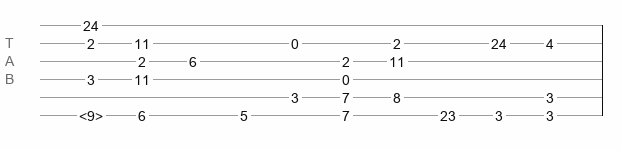0: (291, 36, 299, 46), (342, 72, 350, 82)
11: (134, 72, 150, 82), (134, 36, 150, 46), (389, 54, 405, 64)
2: (87, 36, 95, 46), (138, 54, 146, 64), (342, 54, 350, 64), (393, 36, 401, 46)
23: (440, 108, 456, 118)
24: (83, 18, 99, 28), (491, 36, 507, 46)
3: (87, 72, 95, 82), (291, 90, 299, 100), (495, 108, 503, 118), (546, 90, 554, 100), (546, 108, 554, 118)
4: (546, 36, 554, 46)
5: (240, 108, 248, 118)
6: (138, 108, 146, 118), (189, 54, 197, 64)
7: (342, 108, 350, 118), (342, 90, 350, 100)
8: (393, 90, 401, 100)
harmonic: (79, 108, 103, 118)
